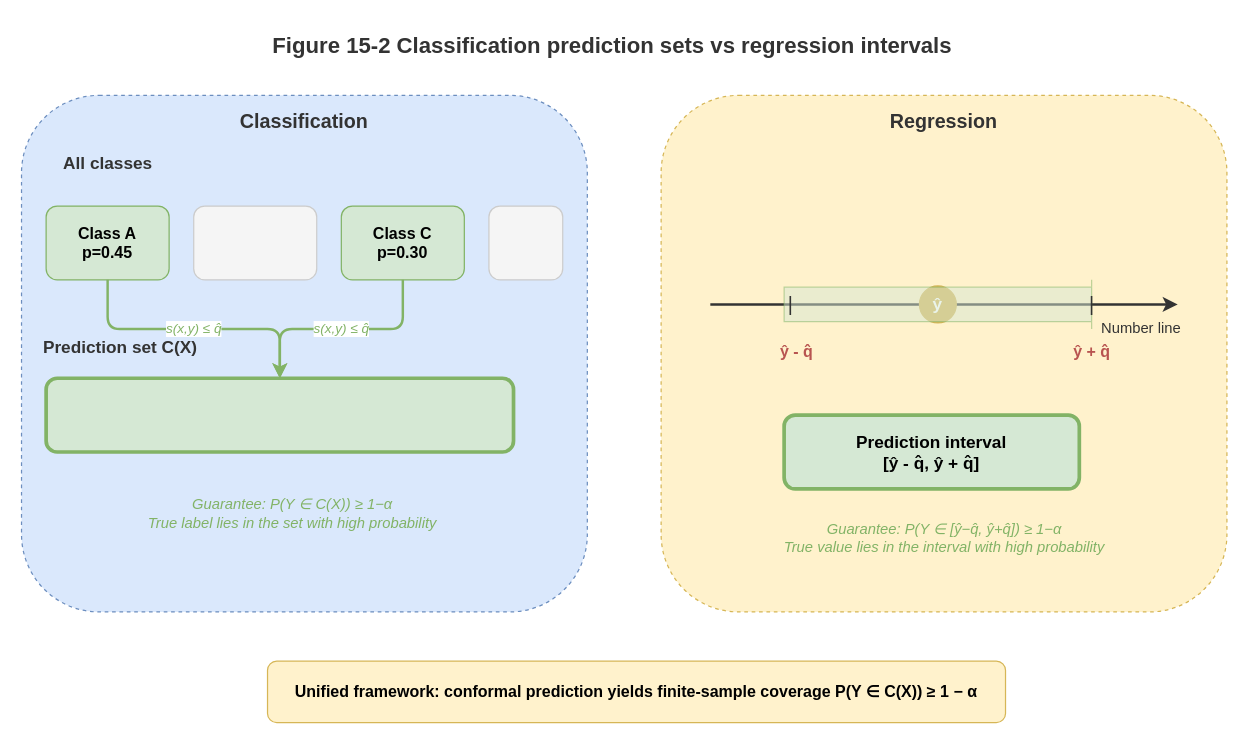
Some shapes in this 1248 by 744 pixel diagram are drawn without their labels. The shapes that lost their labels are listed below. From the top down, each one's centre as x and y in pixels, then its label:
point 254,242: Class B p=0.15
point 525,242: Class D p=0.10
point 279,414: C(X) = { Class A, Class C }
